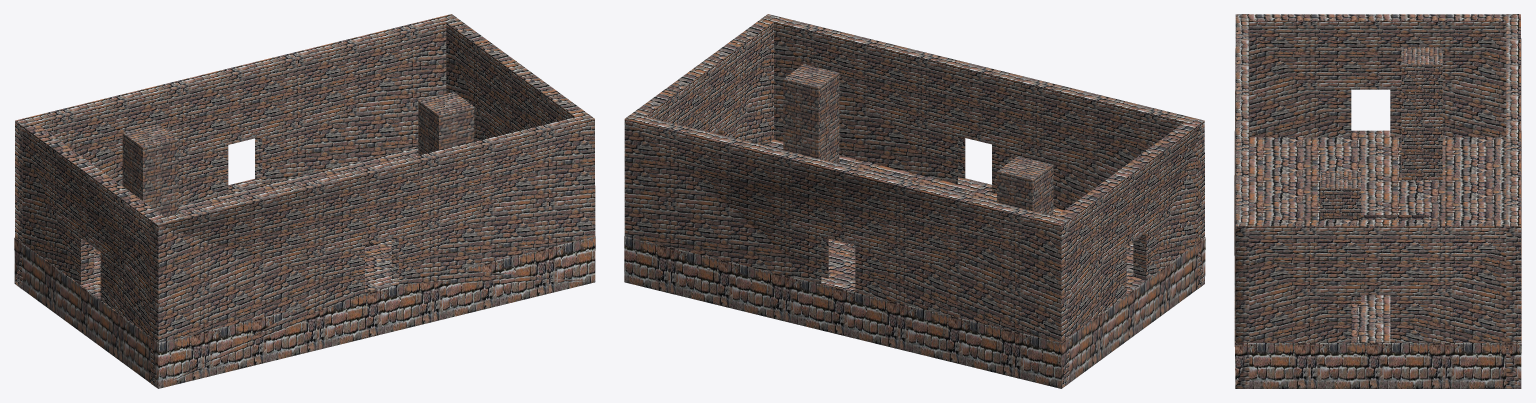
Rendered from LevelTest03_pit.FBX.
3 views of the same model, side by side, from view 1: azimuth 30°, elevation 25°; view 2: azimuth 150°, elevation 25°; view 3: azimuth 270°, elevation 25° (orthographic).
Parts seen in each view (by area): view 1: Box001; view 2: Box001; view 3: Box001.
Boxes of the visible parts, x1,y1,x2,y2 form: Box001: (14, 14, 595, 388); Box001: (624, 14, 1205, 388); Box001: (1234, 14, 1521, 388).
Size of the model in its own units: 96.98 by 34.64 by 55.41.
